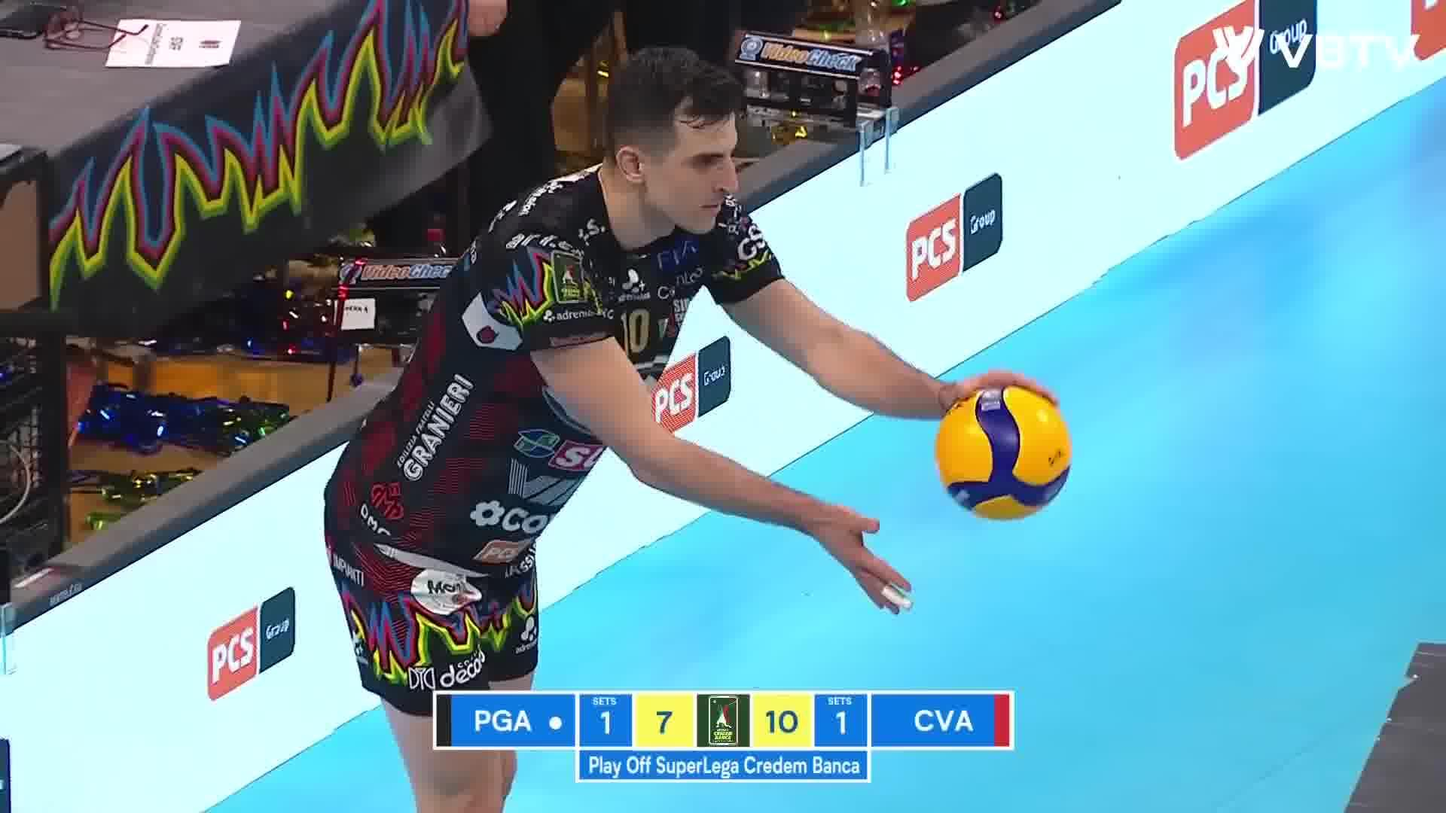balls: (930, 385, 1077, 525)
